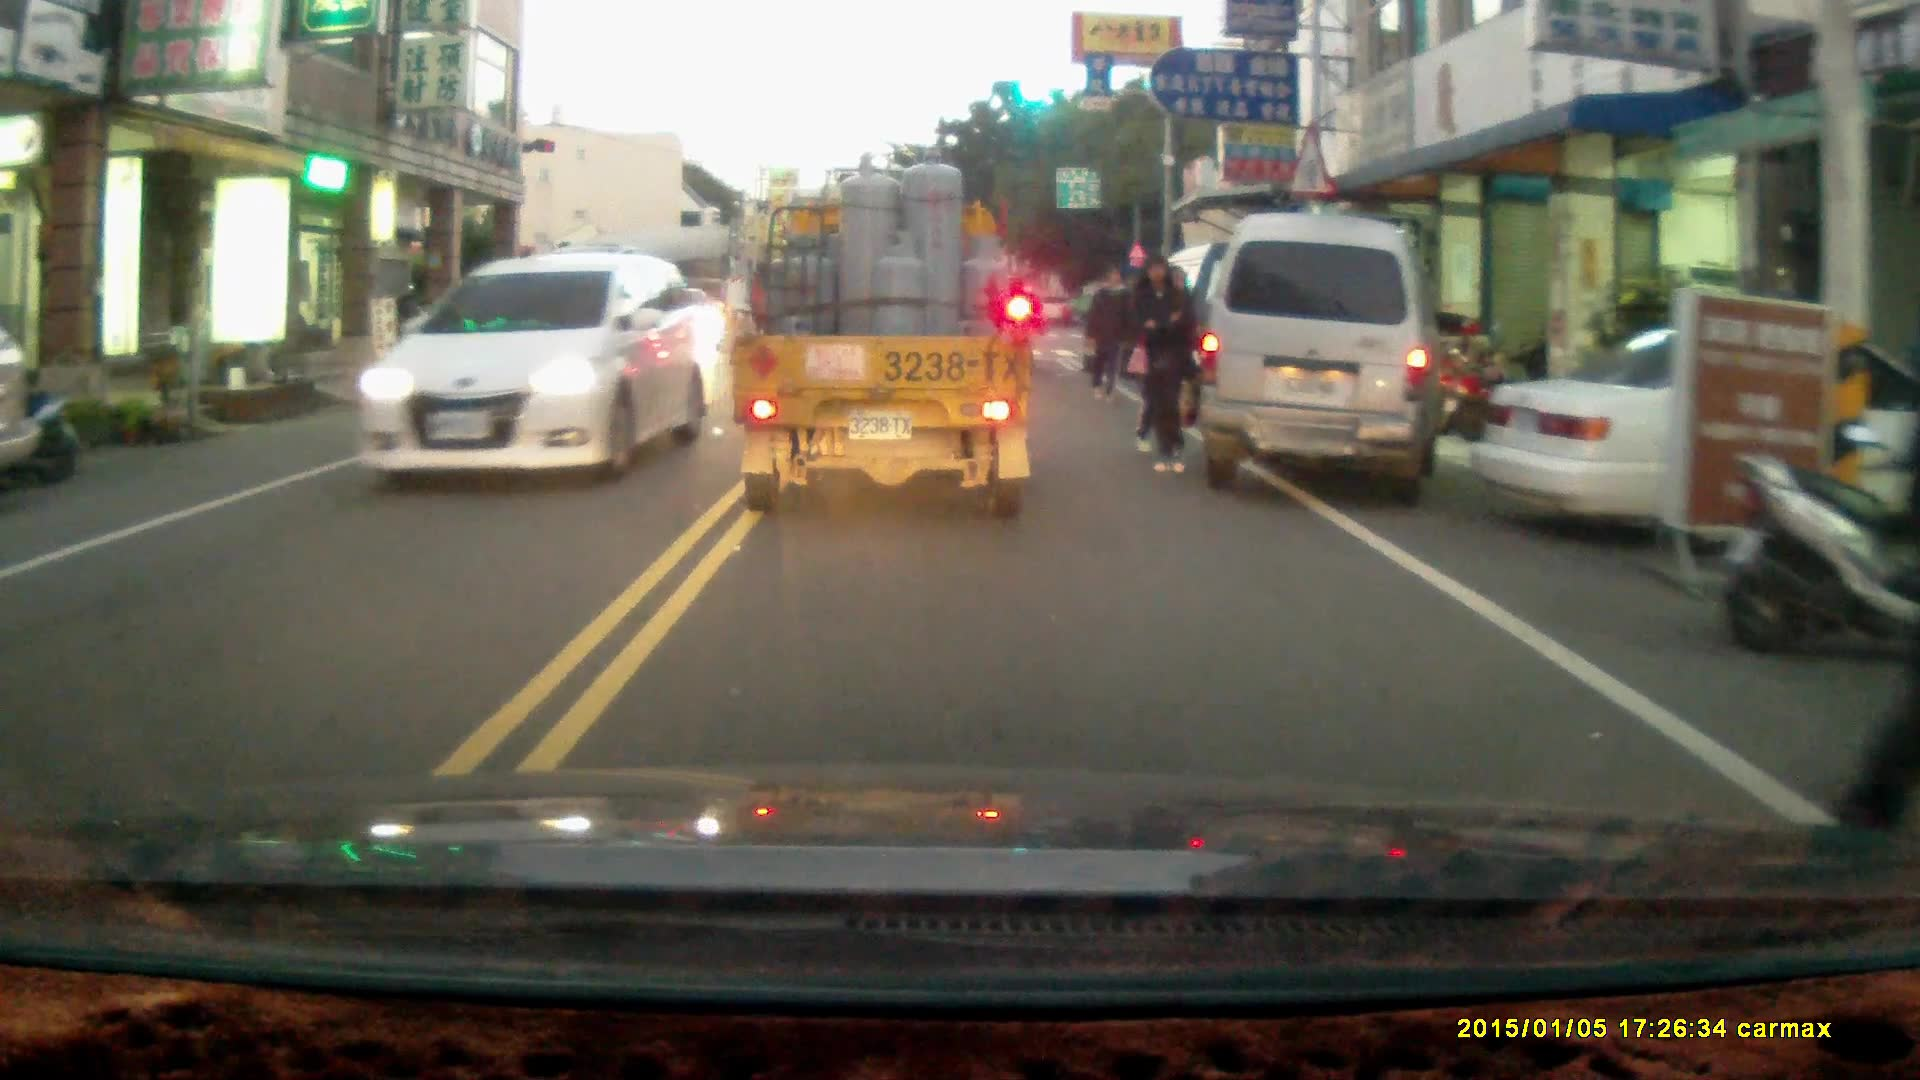pedestrian: (1126, 254, 1191, 477), (1084, 261, 1134, 405)
vehicle: (723, 144, 1035, 518), (1463, 322, 1920, 564), (354, 249, 706, 479), (1192, 209, 1447, 498)
